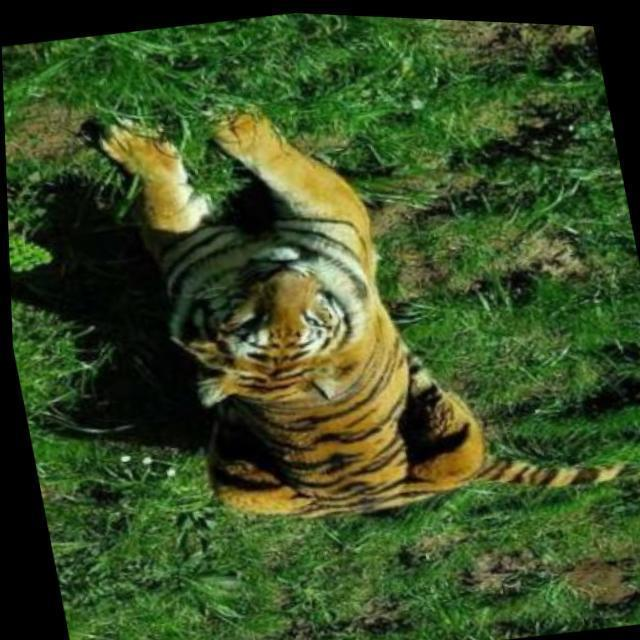tiger: (75, 103, 632, 520)
